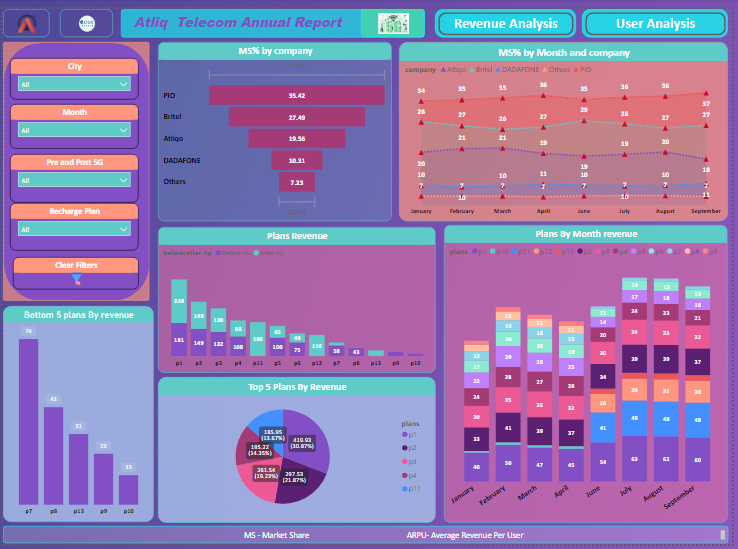

Layout of this report page (visuals, bound fields, positions):
{"tool":"powerbi","page":{"name":"Market and plan Analysis","canvas":[1350,990],"ordinal":2},"visuals":[{"type":"columnChart","title":"Plans Revenue","fields":{"Category":["fact_plan_revenue.plans"],"Y":["Sum(fact_plan_revenue.plan_revenue_crores)"],"Series":["dim_date.before/after_5g"]},"box":[286.9,404.4,514,270],"z":0},{"type":"funnel","fields":{"Category":["fact_market_share.company"],"Y":["key measures.MS%"]},"box":[286.9,61,432.7,332.1],"z":1000},{"type":"areaChart","fields":{"Category":["dim_date.date.Variation.Date Hierarchy.Month"],"Y":["key measures.MS%"],"Series":["fact_market_share.company"]},"box":[733.2,61,608.9,332.1],"z":2000},{"type":"image","box":[0,0,86.4,52.1],"z":3000},{"type":"image","box":[106.5,0,98.2,52.1],"z":4000},{"type":"shape","box":[0,61,271.1,479],"z":5000},{"type":"slicer","title":"City","fields":{"Values":["dim_cities.city_name"]},"box":[13.2,90,237.6,76.8],"z":6000},{"type":"slicer","title":"Month","fields":{"Values":["dim_date.month_name"]},"box":[13.2,176.4,237.6,82.8],"z":7000},{"type":"slicer","title":"Pre and Post 5G ","fields":{"Values":["dim_date.before/after_5g"]},"box":[13.2,267.6,237.6,90],"z":8000},{"type":"slicer","title":"Recharge Plan ","fields":{"Values":["dim_plan.plan"]},"box":[13.2,360,237.6,87.6],"z":9000},{"type":"columnChart","title":"Plans By Month revenue","fields":{"Category":["dim_date.date.Variation.Date Hierarchy.Month"],"Y":["Sum(fact_plan_revenue.plan_revenue_crores)"],"Series":["fact_plan_revenue.plans"]},"box":[816.8,399.9,525.3,551.3],"z":11000},{"type":"pieChart","title":"Top 5 Plans By Revenue","fields":{"Category":["fact_plan_revenue.plans"],"Y":["Sum(fact_plan_revenue.plan_revenue_crores)"]},"box":[286.9,681.2,514,270],"z":12000},{"type":"clusteredColumnChart","title":"Bottom 5 plans By revenue","fields":{"Category":["fact_plan_revenue.plans"],"Y":["Sum(fact_plan_revenue.plan_revenue_crores)"]},"box":[0,550.2,279,399.9],"z":13000},{"type":"actionButton","box":[800.3,0,260.5,52.8],"z":14000},{"type":"actionButton","box":[1071.9,0,270.4,52.8],"z":15000},{"type":"image","title":"Clear  Filters","box":[18,458.4,232.8,60],"z":16000},{"type":"textbox","box":[218.8,0,561.8,52.8],"z":16001},{"type":"image","box":[662.2,0,118.3,52.3],"z":16002},{"type":"textbox","box":[0,957,1342.5,32.4],"z":16003}]}

Visuals, with their boxes in screenshot pixels (x1, y1, x2, y2), scaled from the page's 1350x990 canvas onto the 738x549 screenshot:
"Plans Revenue" columnChart: <region>157, 224, 438, 374</region>
funnel - fact_market_share.company x key measures.MS%: <region>157, 34, 393, 218</region>
areaChart - dim_date.date.Variation.Date Hierarchy.Month x key measures.MS%: <region>401, 34, 734, 218</region>
image: <region>0, 0, 47, 29</region>
image: <region>58, 0, 112, 29</region>
shape: <region>0, 34, 148, 299</region>
"City" slicer: <region>7, 50, 137, 92</region>
"Month" slicer: <region>7, 98, 137, 144</region>
"Pre and Post 5G " slicer: <region>7, 148, 137, 198</region>
"Recharge Plan " slicer: <region>7, 200, 137, 248</region>
"Plans By Month revenue" columnChart: <region>447, 222, 734, 527</region>
"Top 5 Plans By Revenue" pieChart: <region>157, 378, 438, 527</region>
"Bottom 5 plans By revenue" clusteredColumnChart: <region>0, 305, 153, 527</region>
actionButton: <region>437, 0, 580, 29</region>
actionButton: <region>586, 0, 734, 29</region>
"Clear  Filters" image: <region>10, 254, 137, 287</region>
textbox: <region>120, 0, 427, 29</region>
image: <region>362, 0, 427, 29</region>
textbox: <region>0, 531, 734, 548</region>
